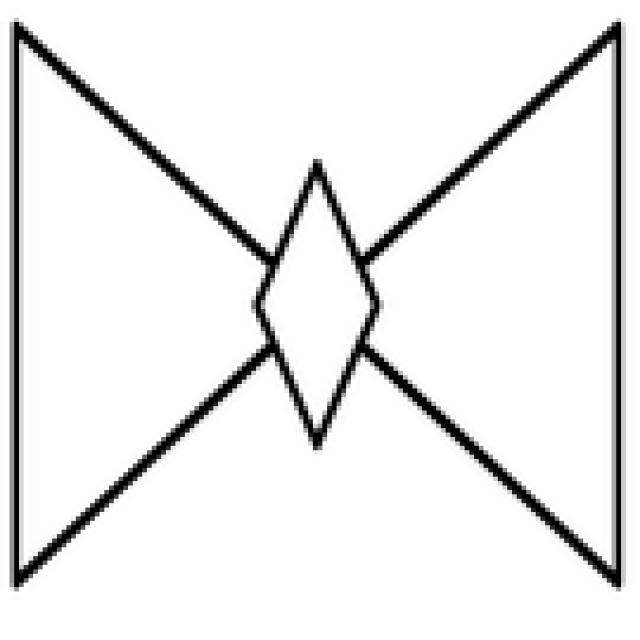Plug Valve: (16, 32, 620, 583)
